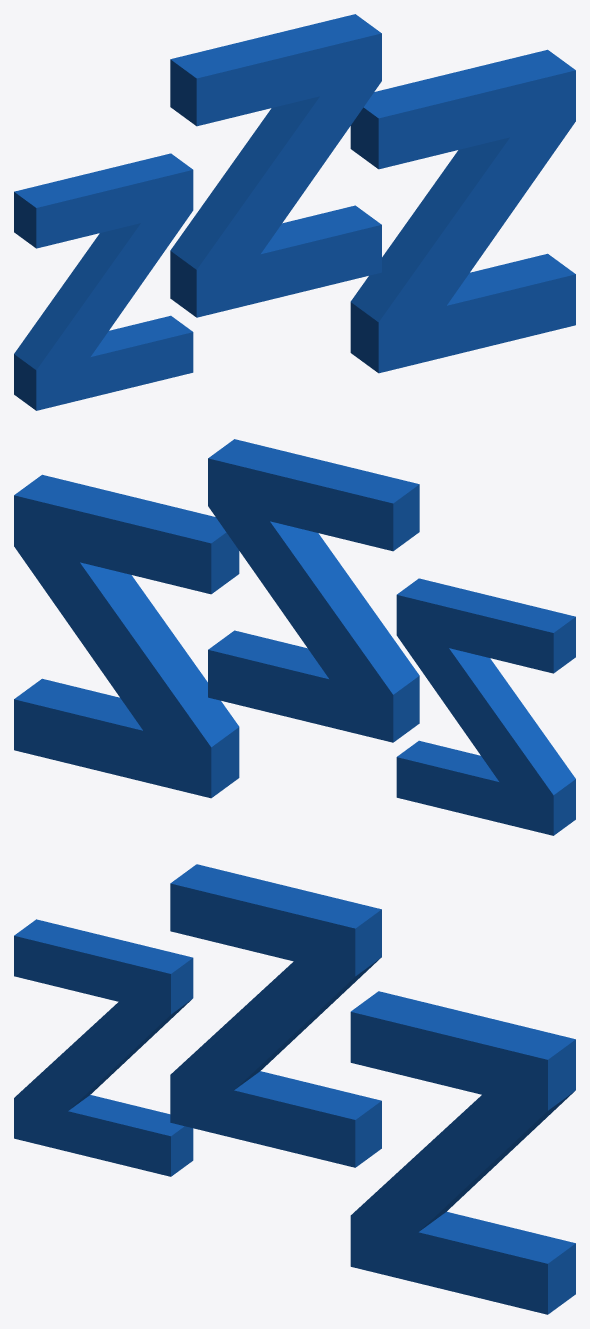
The model's file is zzz.glb.
The picture shows the model from 3 angles, top to bottom: view 1: azimuth 30°, elevation 25°; view 2: azimuth 150°, elevation 25°; view 3: azimuth 330°, elevation 25°; orthographic projection.
Parts seen in each view (by area): view 1: Cube.013; view 2: Cube.013; view 3: Cube.013.
Boxes of the visible parts, x1,y1,x2,y2 form: Cube.013: (14, 14, 575, 410); Cube.013: (14, 439, 575, 835); Cube.013: (14, 864, 575, 1314).
Bounding box in the file's own units: 1.87 × 1.13 × 0.1698.
Materials: 1 (1 with a texture image).
